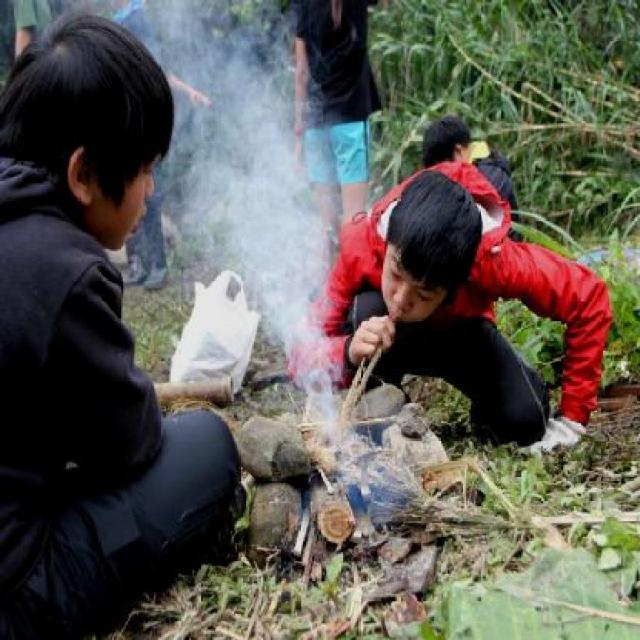Smoke: (96, 0, 342, 445)
